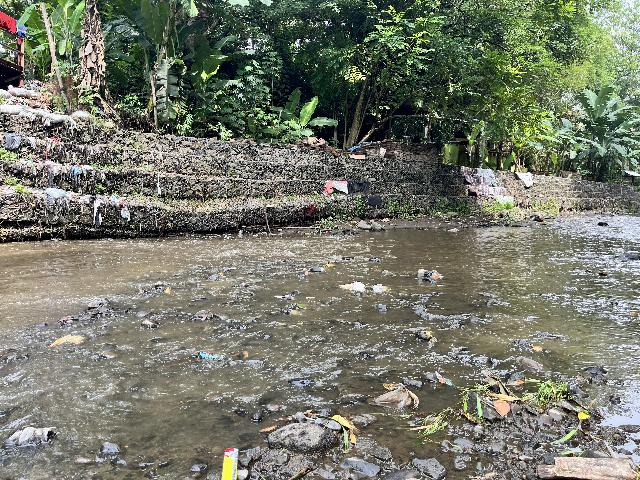Sampah Anorganik: (372, 379, 420, 412), (189, 345, 225, 362), (221, 445, 238, 480), (373, 283, 403, 300), (432, 371, 454, 389), (416, 267, 441, 281), (337, 281, 367, 292), (274, 294, 296, 302), (324, 262, 336, 269)
Sampah Organik: (470, 361, 640, 480), (260, 411, 360, 449), (41, 332, 90, 347), (284, 304, 306, 317), (421, 329, 436, 343), (55, 316, 77, 324), (216, 270, 226, 280), (164, 286, 173, 296), (530, 345, 543, 351), (202, 314, 213, 321), (302, 269, 309, 278)
